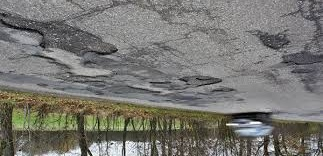pothole: (36, 28, 121, 56), (40, 55, 115, 79), (2, 14, 44, 34), (252, 29, 287, 52), (278, 51, 321, 67), (120, 83, 171, 95), (174, 72, 219, 85), (210, 83, 234, 95), (73, 78, 100, 86), (289, 67, 315, 75), (148, 80, 171, 84)
